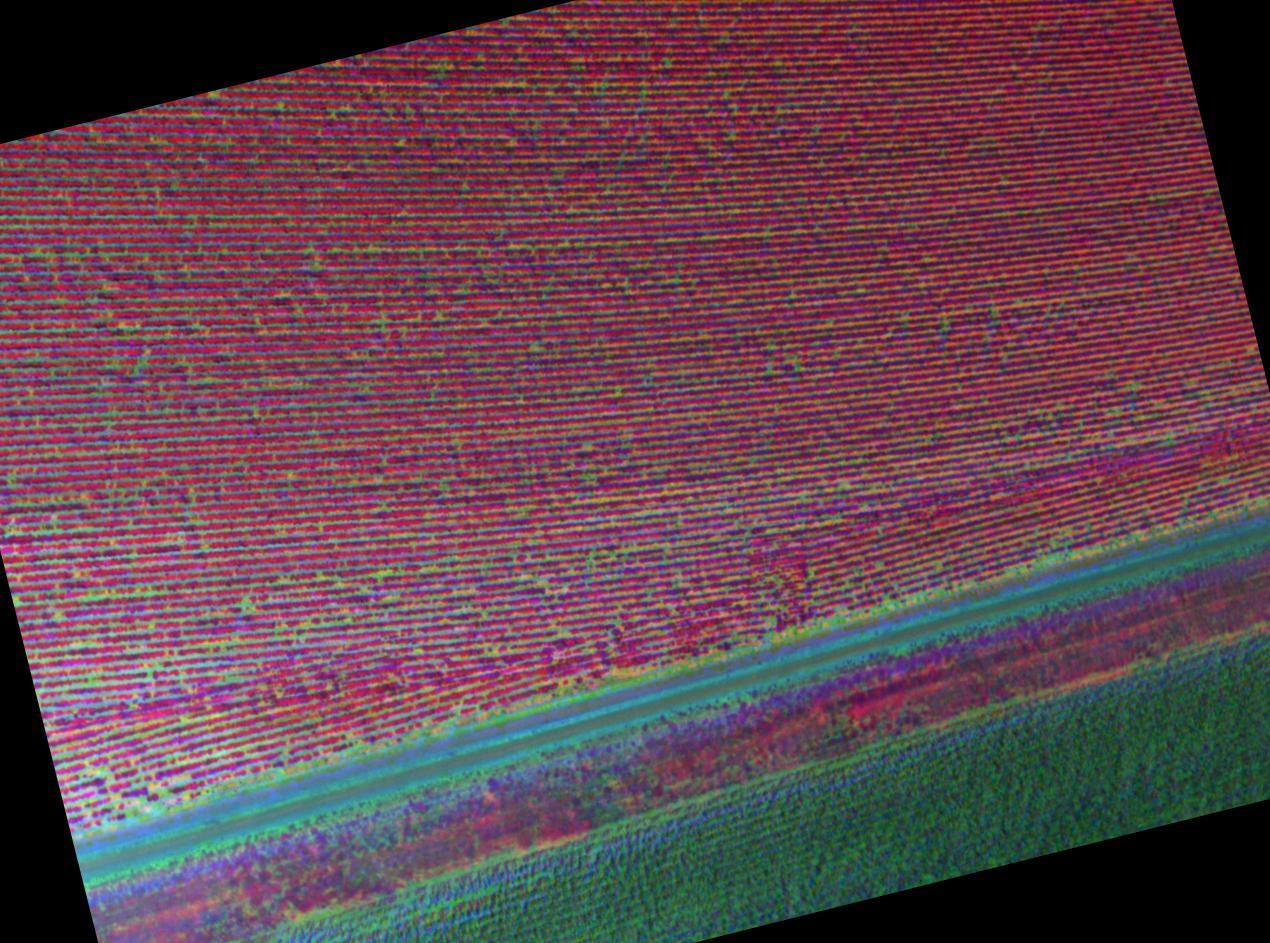dc: (126, 811, 131, 817), (177, 781, 182, 785), (539, 577, 543, 581), (523, 507, 526, 511), (611, 552, 614, 556), (416, 650, 420, 653)
